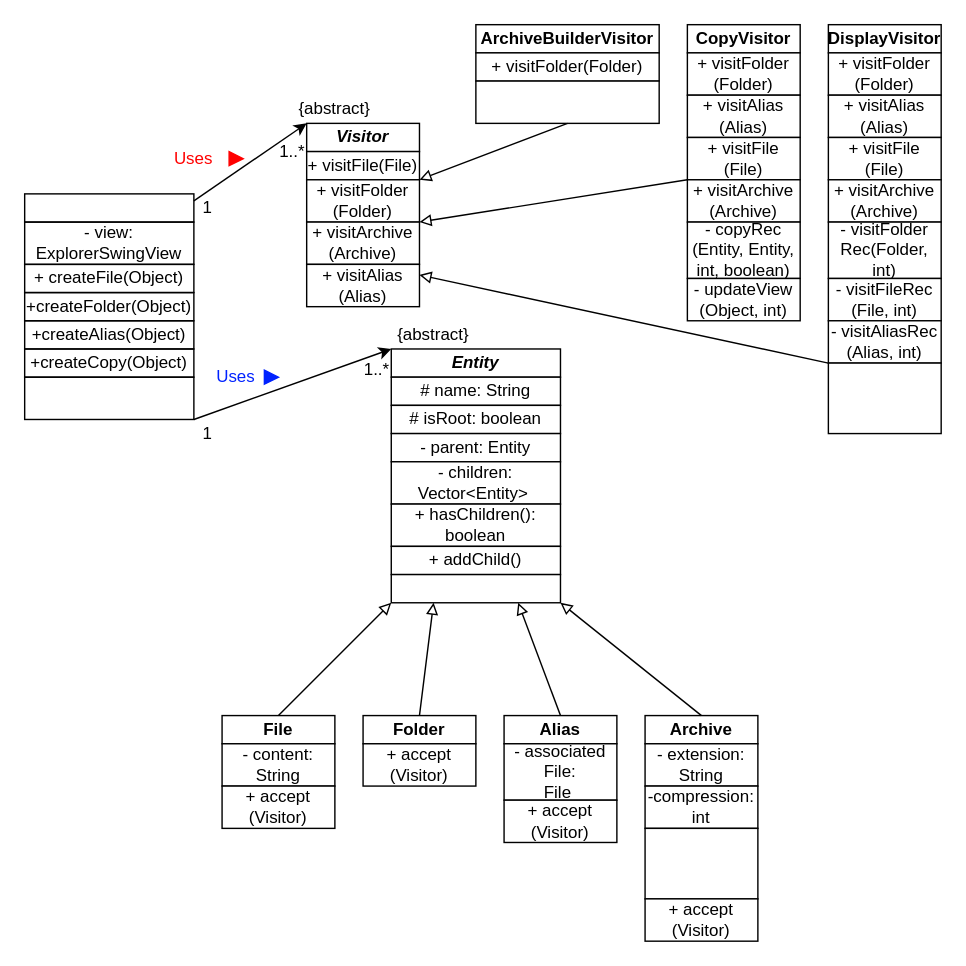
Some shapes in this 966 by 966 pixel diagram are drawn without their labels. The shapes that lost their labels are listed below. From the top down, each one's centre as x and y in pixels, then its label:
At [566,101]: "- buildArchiveRec (Entity, Entity)".
At [108,207]: "TreeViewManipulator".
At [108,397]: "+ createArchive(Object)".
At [884,398]: "- visitArchive Rec(Archive, int)".
At [475,588]: "+ accept(Visitor)".
At [701,863]: "+ setupArchive (String, int)".
